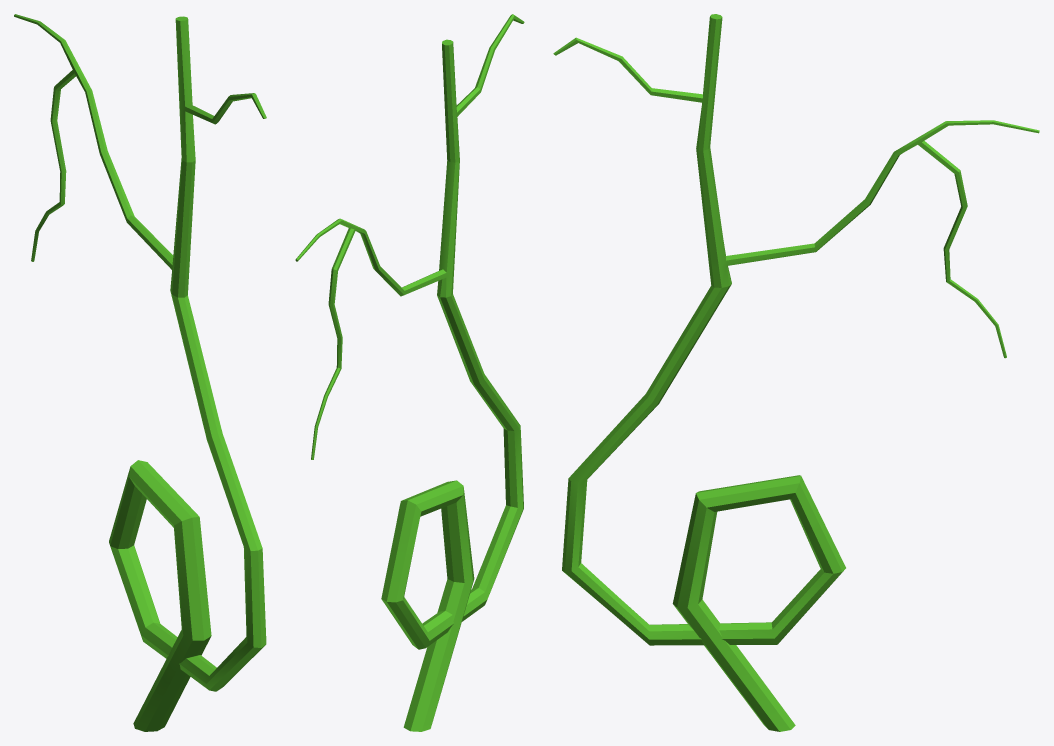
File: 001_Vine_003.fbx
3 renders of one model, left to right at view 1: azimuth 30°, elevation 25°; view 2: azimuth 150°, elevation 25°; view 3: azimuth 270°, elevation 25°, orthographic. The views are drawn at different scales.
Visible parts, largest first — view 1: Good_Vine_2; view 2: Good_Vine_2; view 3: Good_Vine_2.
Boxes of the visible parts, x1,y1,x2,y2 form: Good_Vine_2: [14, 14, 266, 731]; Good_Vine_2: [295, 14, 524, 731]; Good_Vine_2: [553, 14, 1039, 731].
Bounding box in the file's own units: 0.2161 × 5.35 × 3.33.
